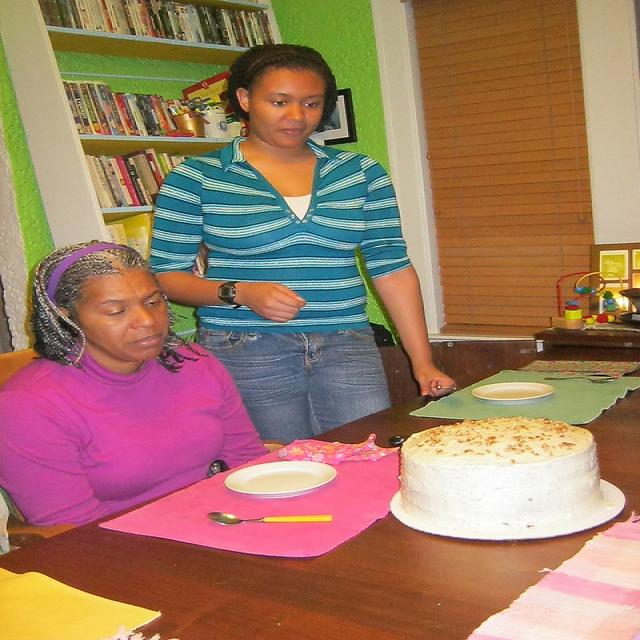chair: (0, 345, 46, 392)
